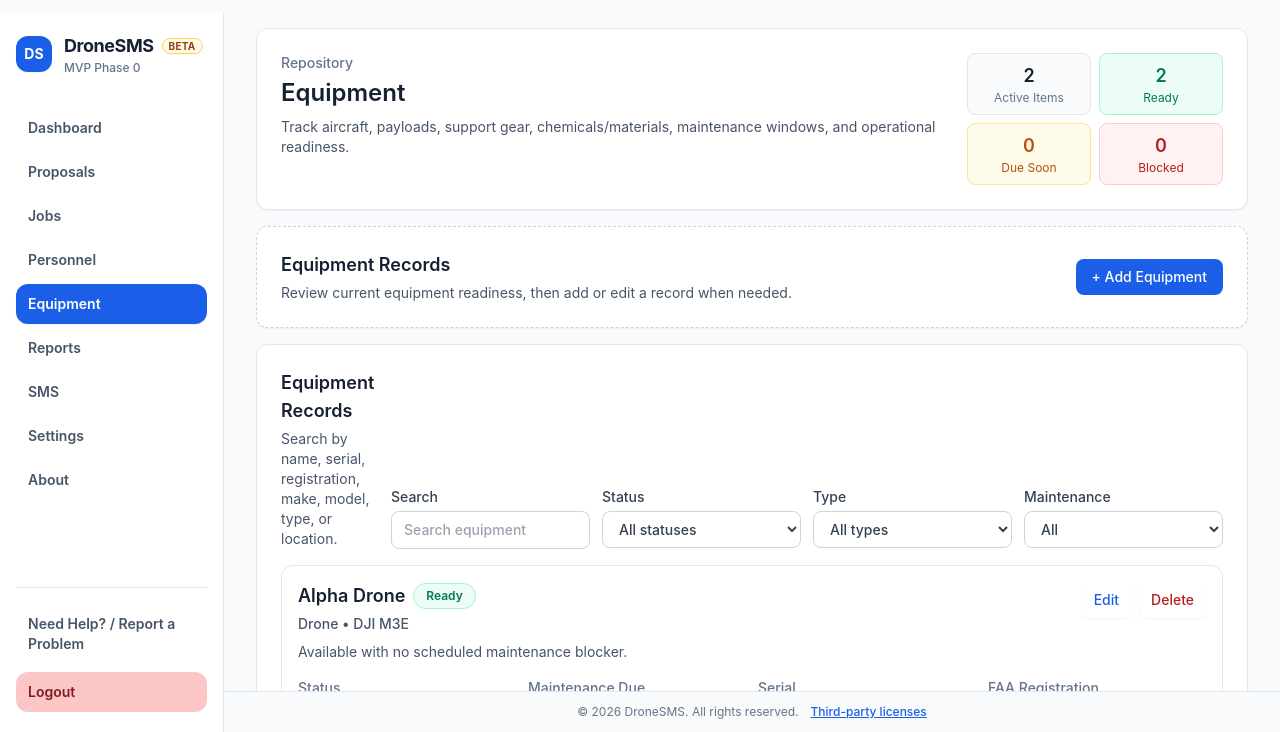
Test case: Equipment inline editing › saves changes through the existing update and confirms on the record
The image size is (1280, 732).
Expected: the heading "Alpha Drone" is shown, [298, 582, 405, 610]
Click the button "Edit": [1106, 600] box [1082, 582, 1131, 618]
(page scrolled)
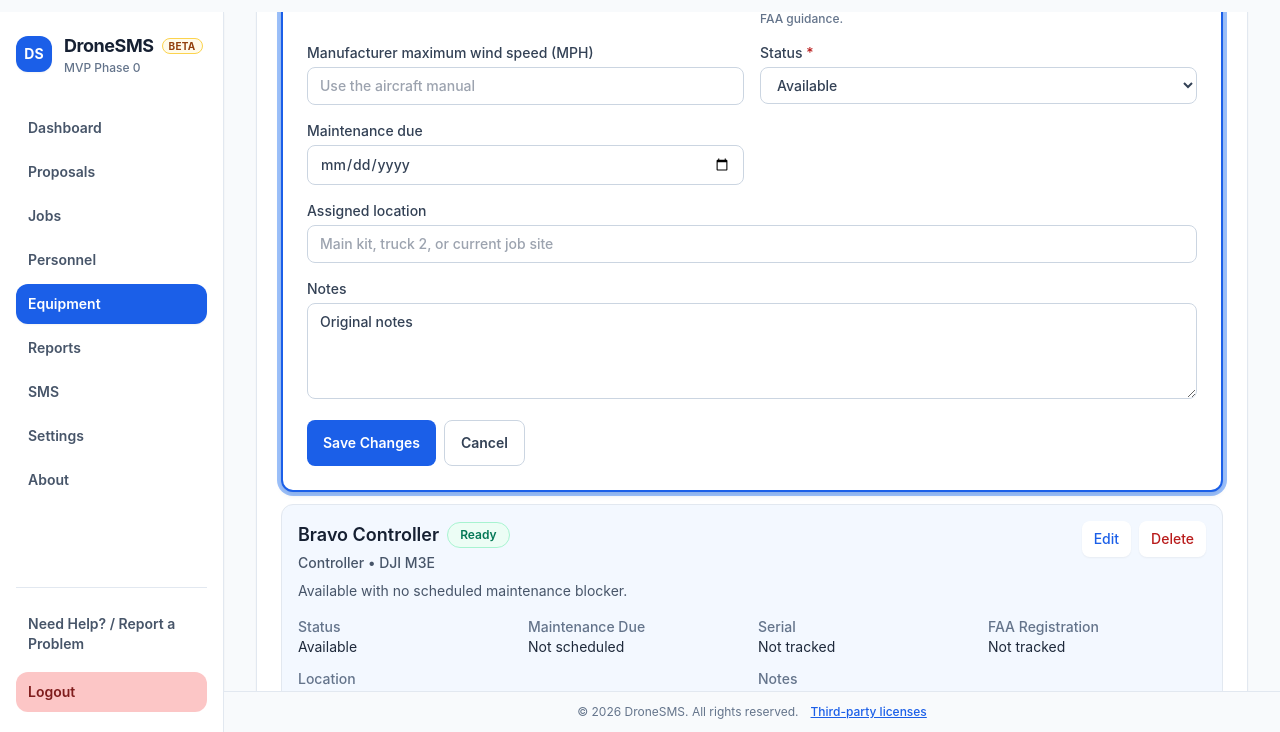
Replace the text in the text box labelled "Notes" with "Props replaced": [752, 351] box [307, 303, 1197, 399]
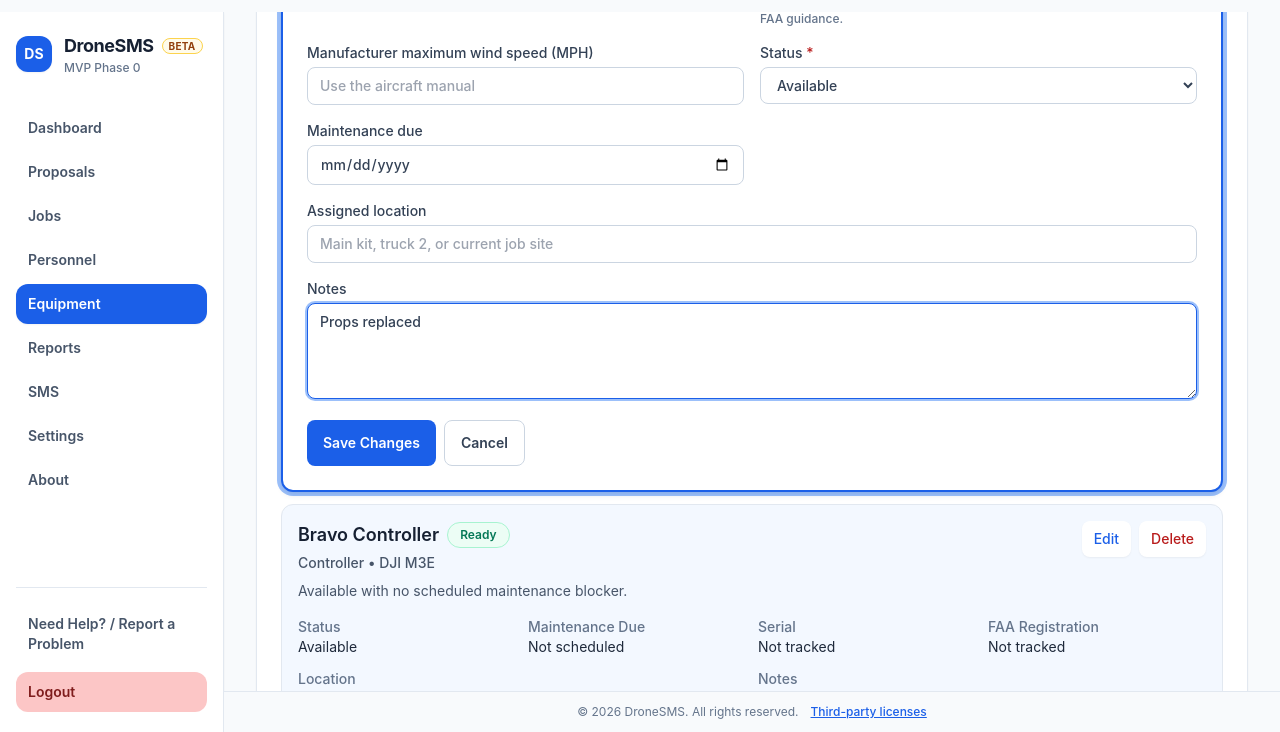
Click the button "Save Changes": [371, 443] box [307, 420, 436, 466]
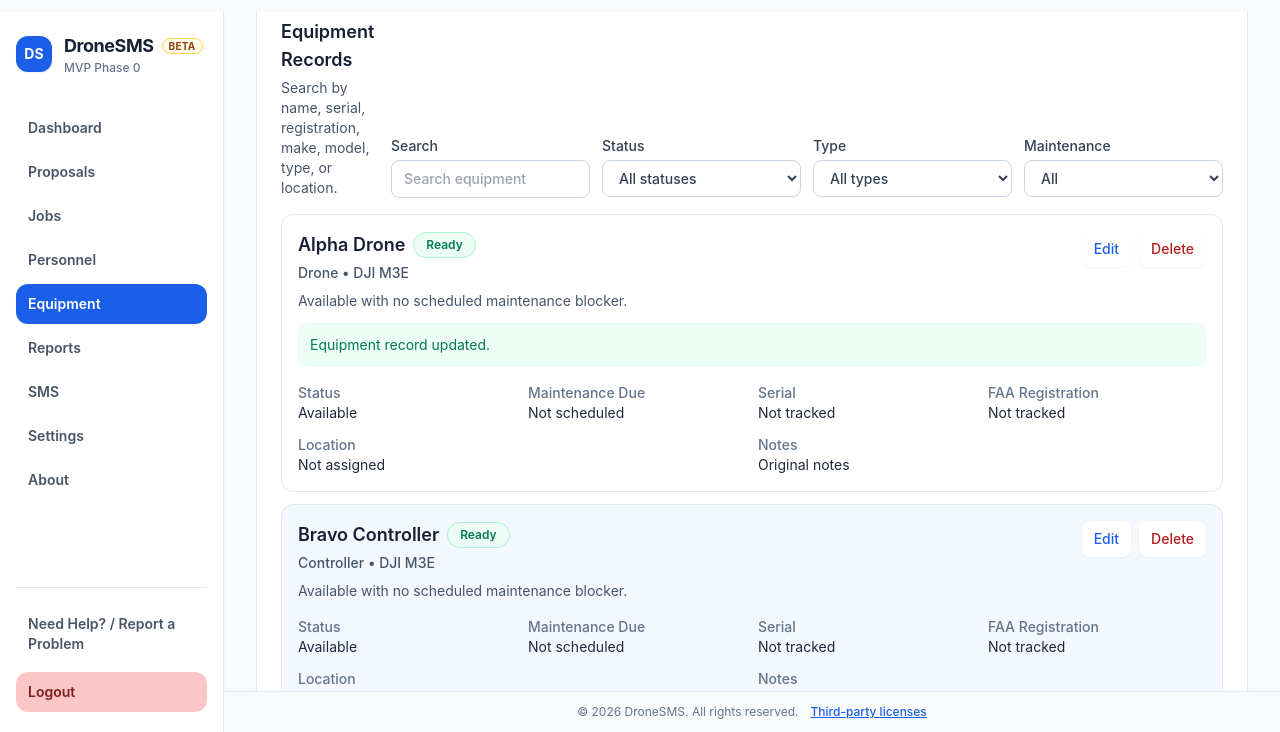
Expected: the text "Equipment record updated." is shown, [298, 323, 1206, 367]
